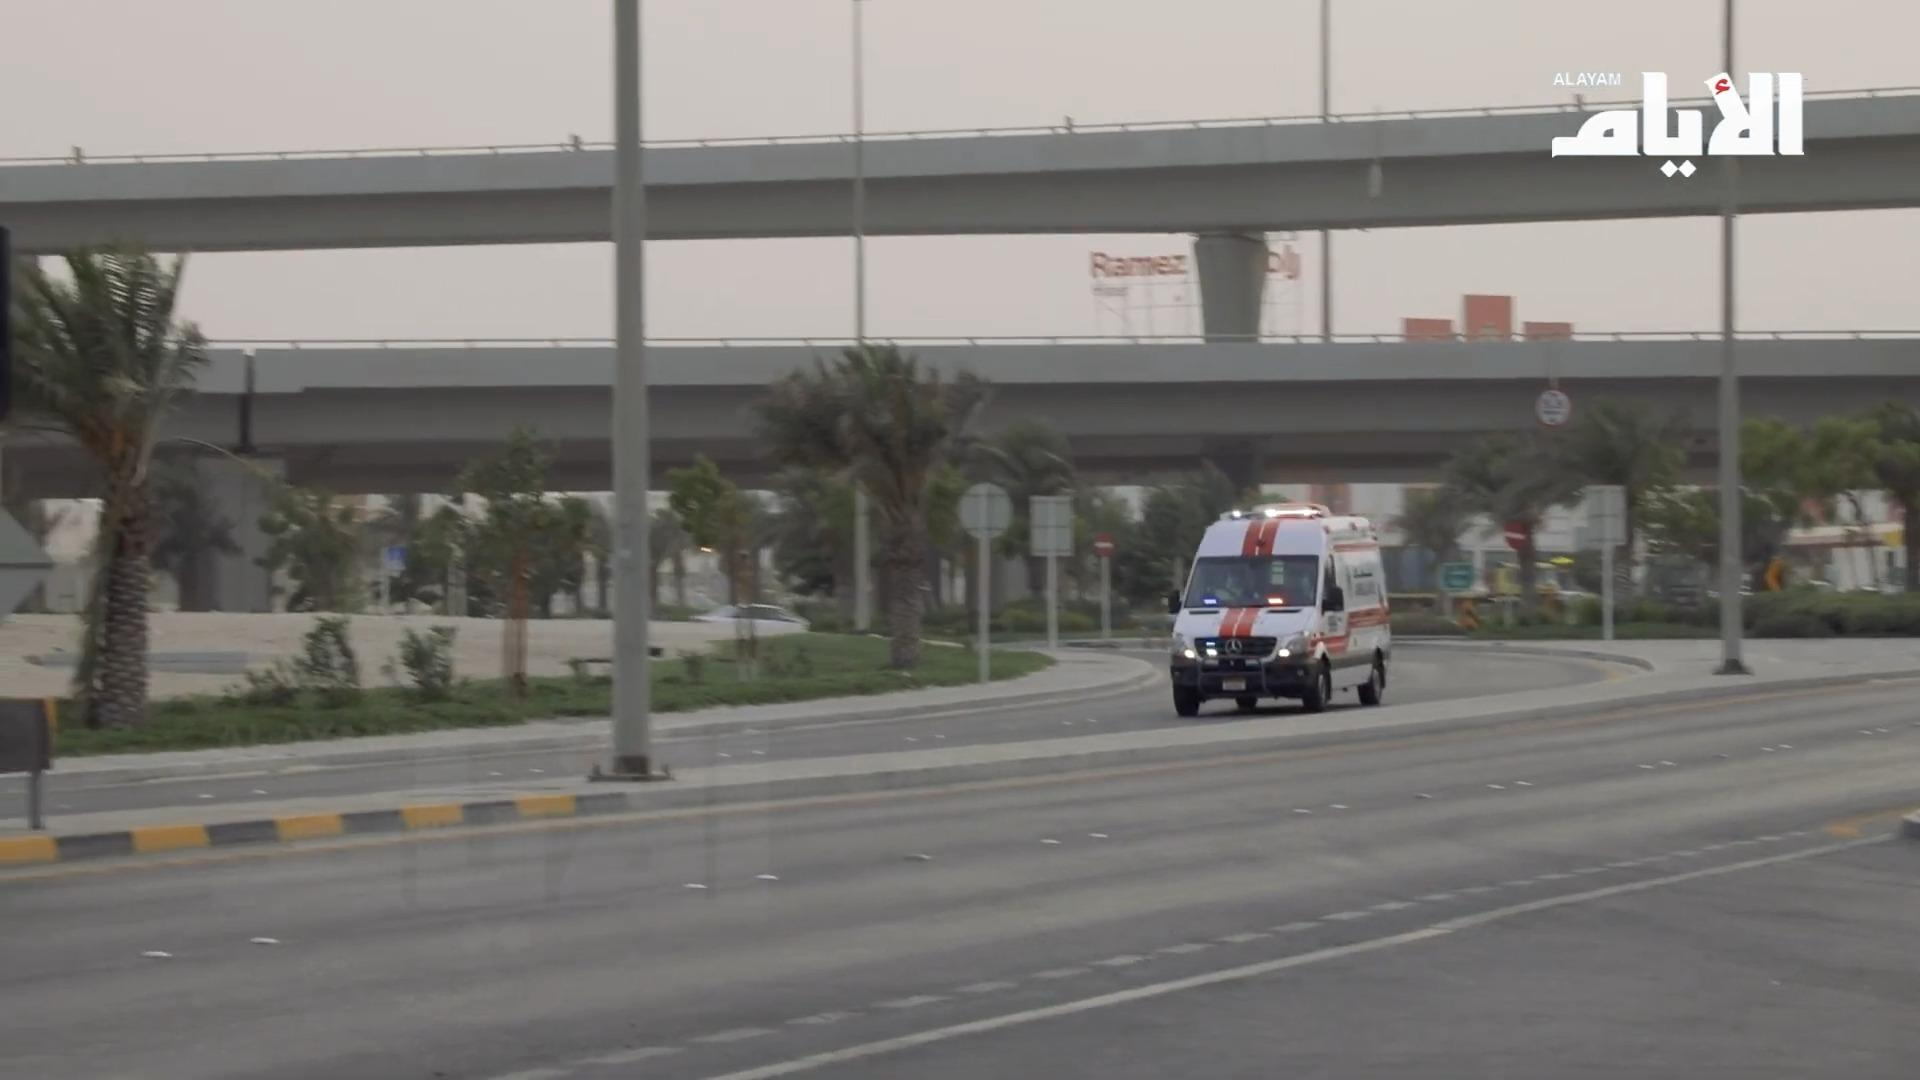ambulance_on: (1167, 506, 1390, 715)
